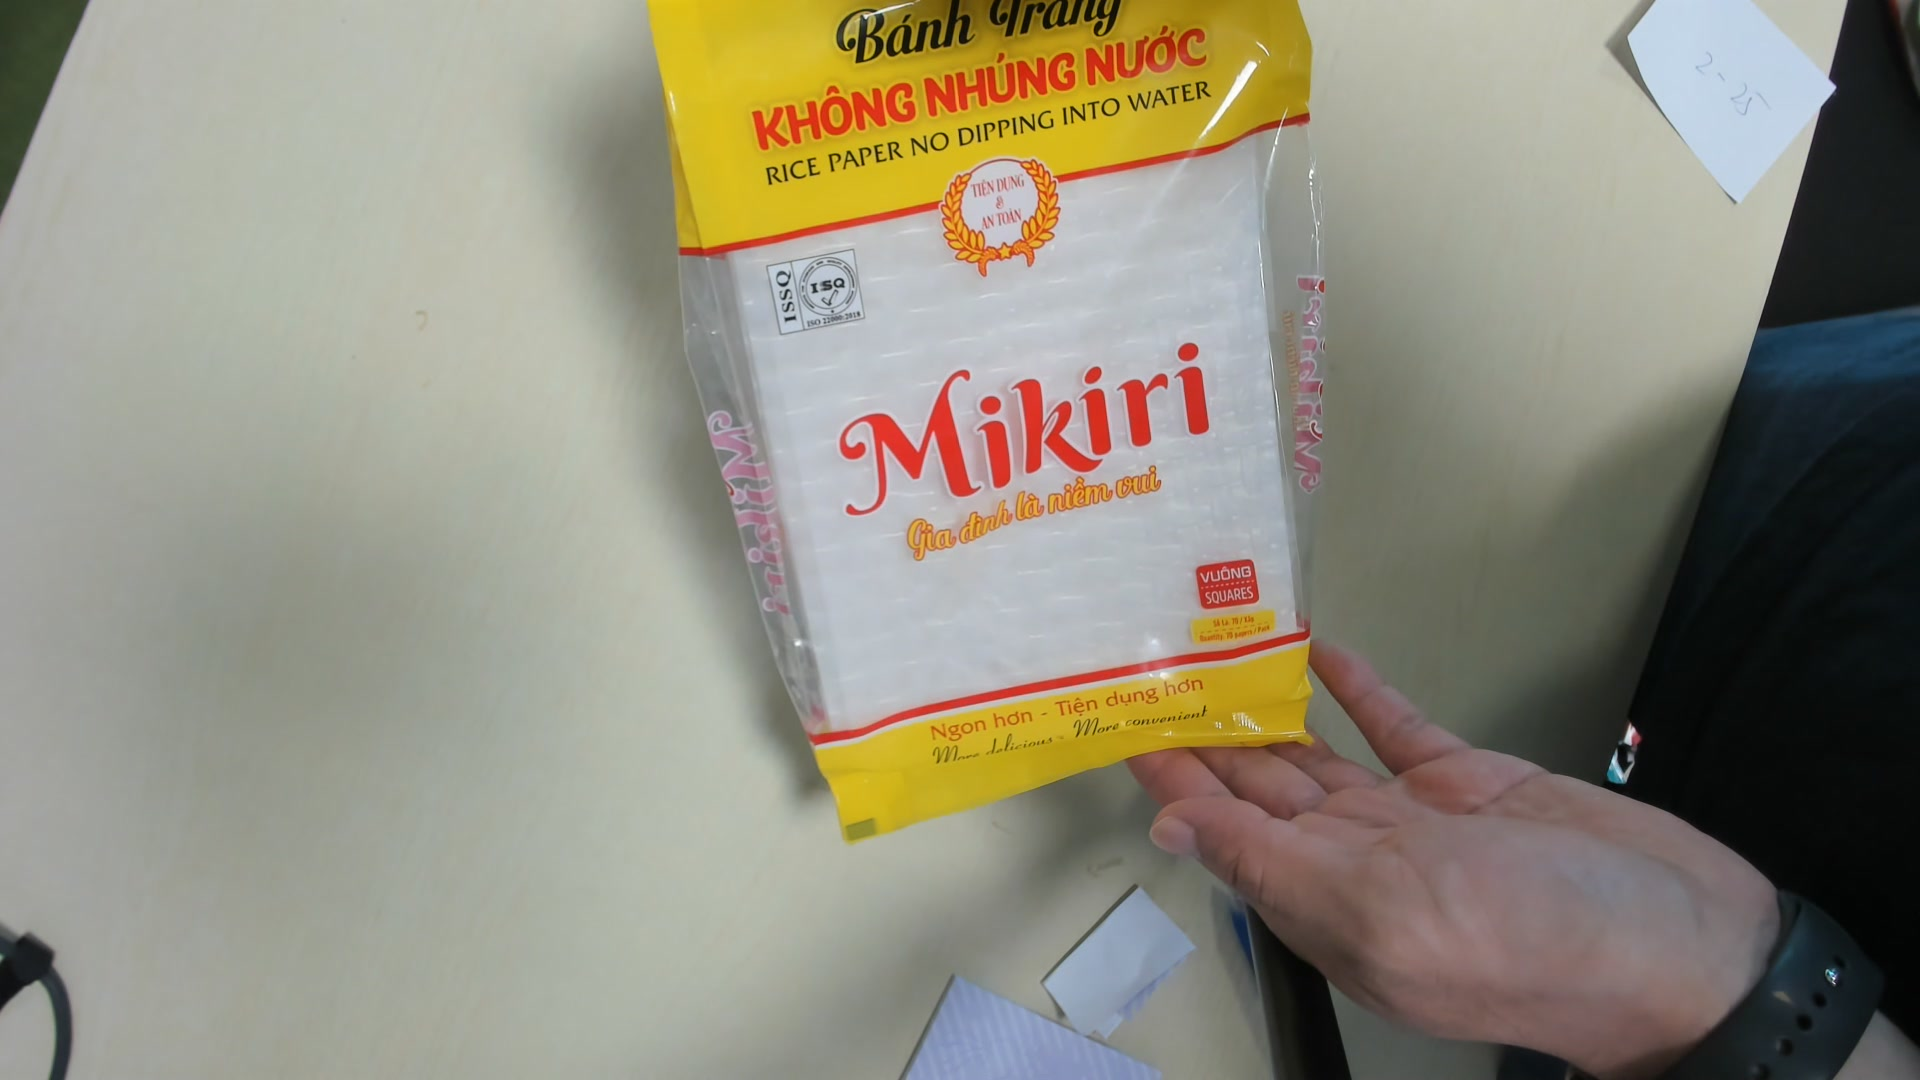InstantMeals_200_299g_NonHalal_NonHealthy: (644, 5, 1327, 836)
